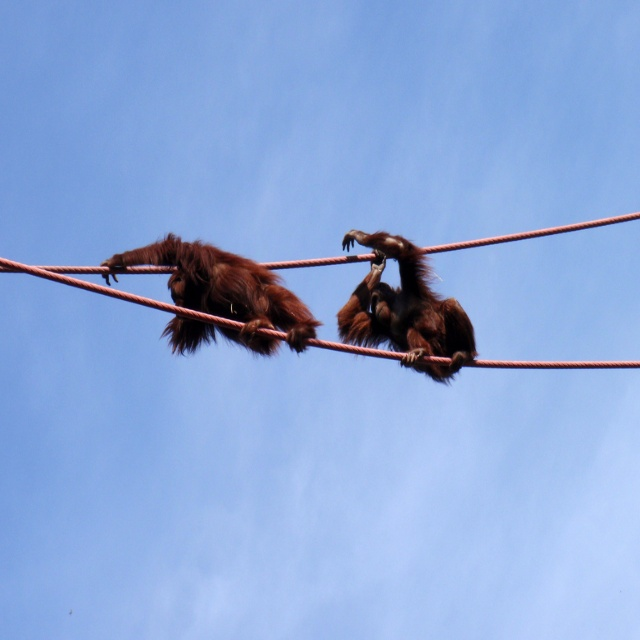Monkey: (339, 242, 492, 373)
